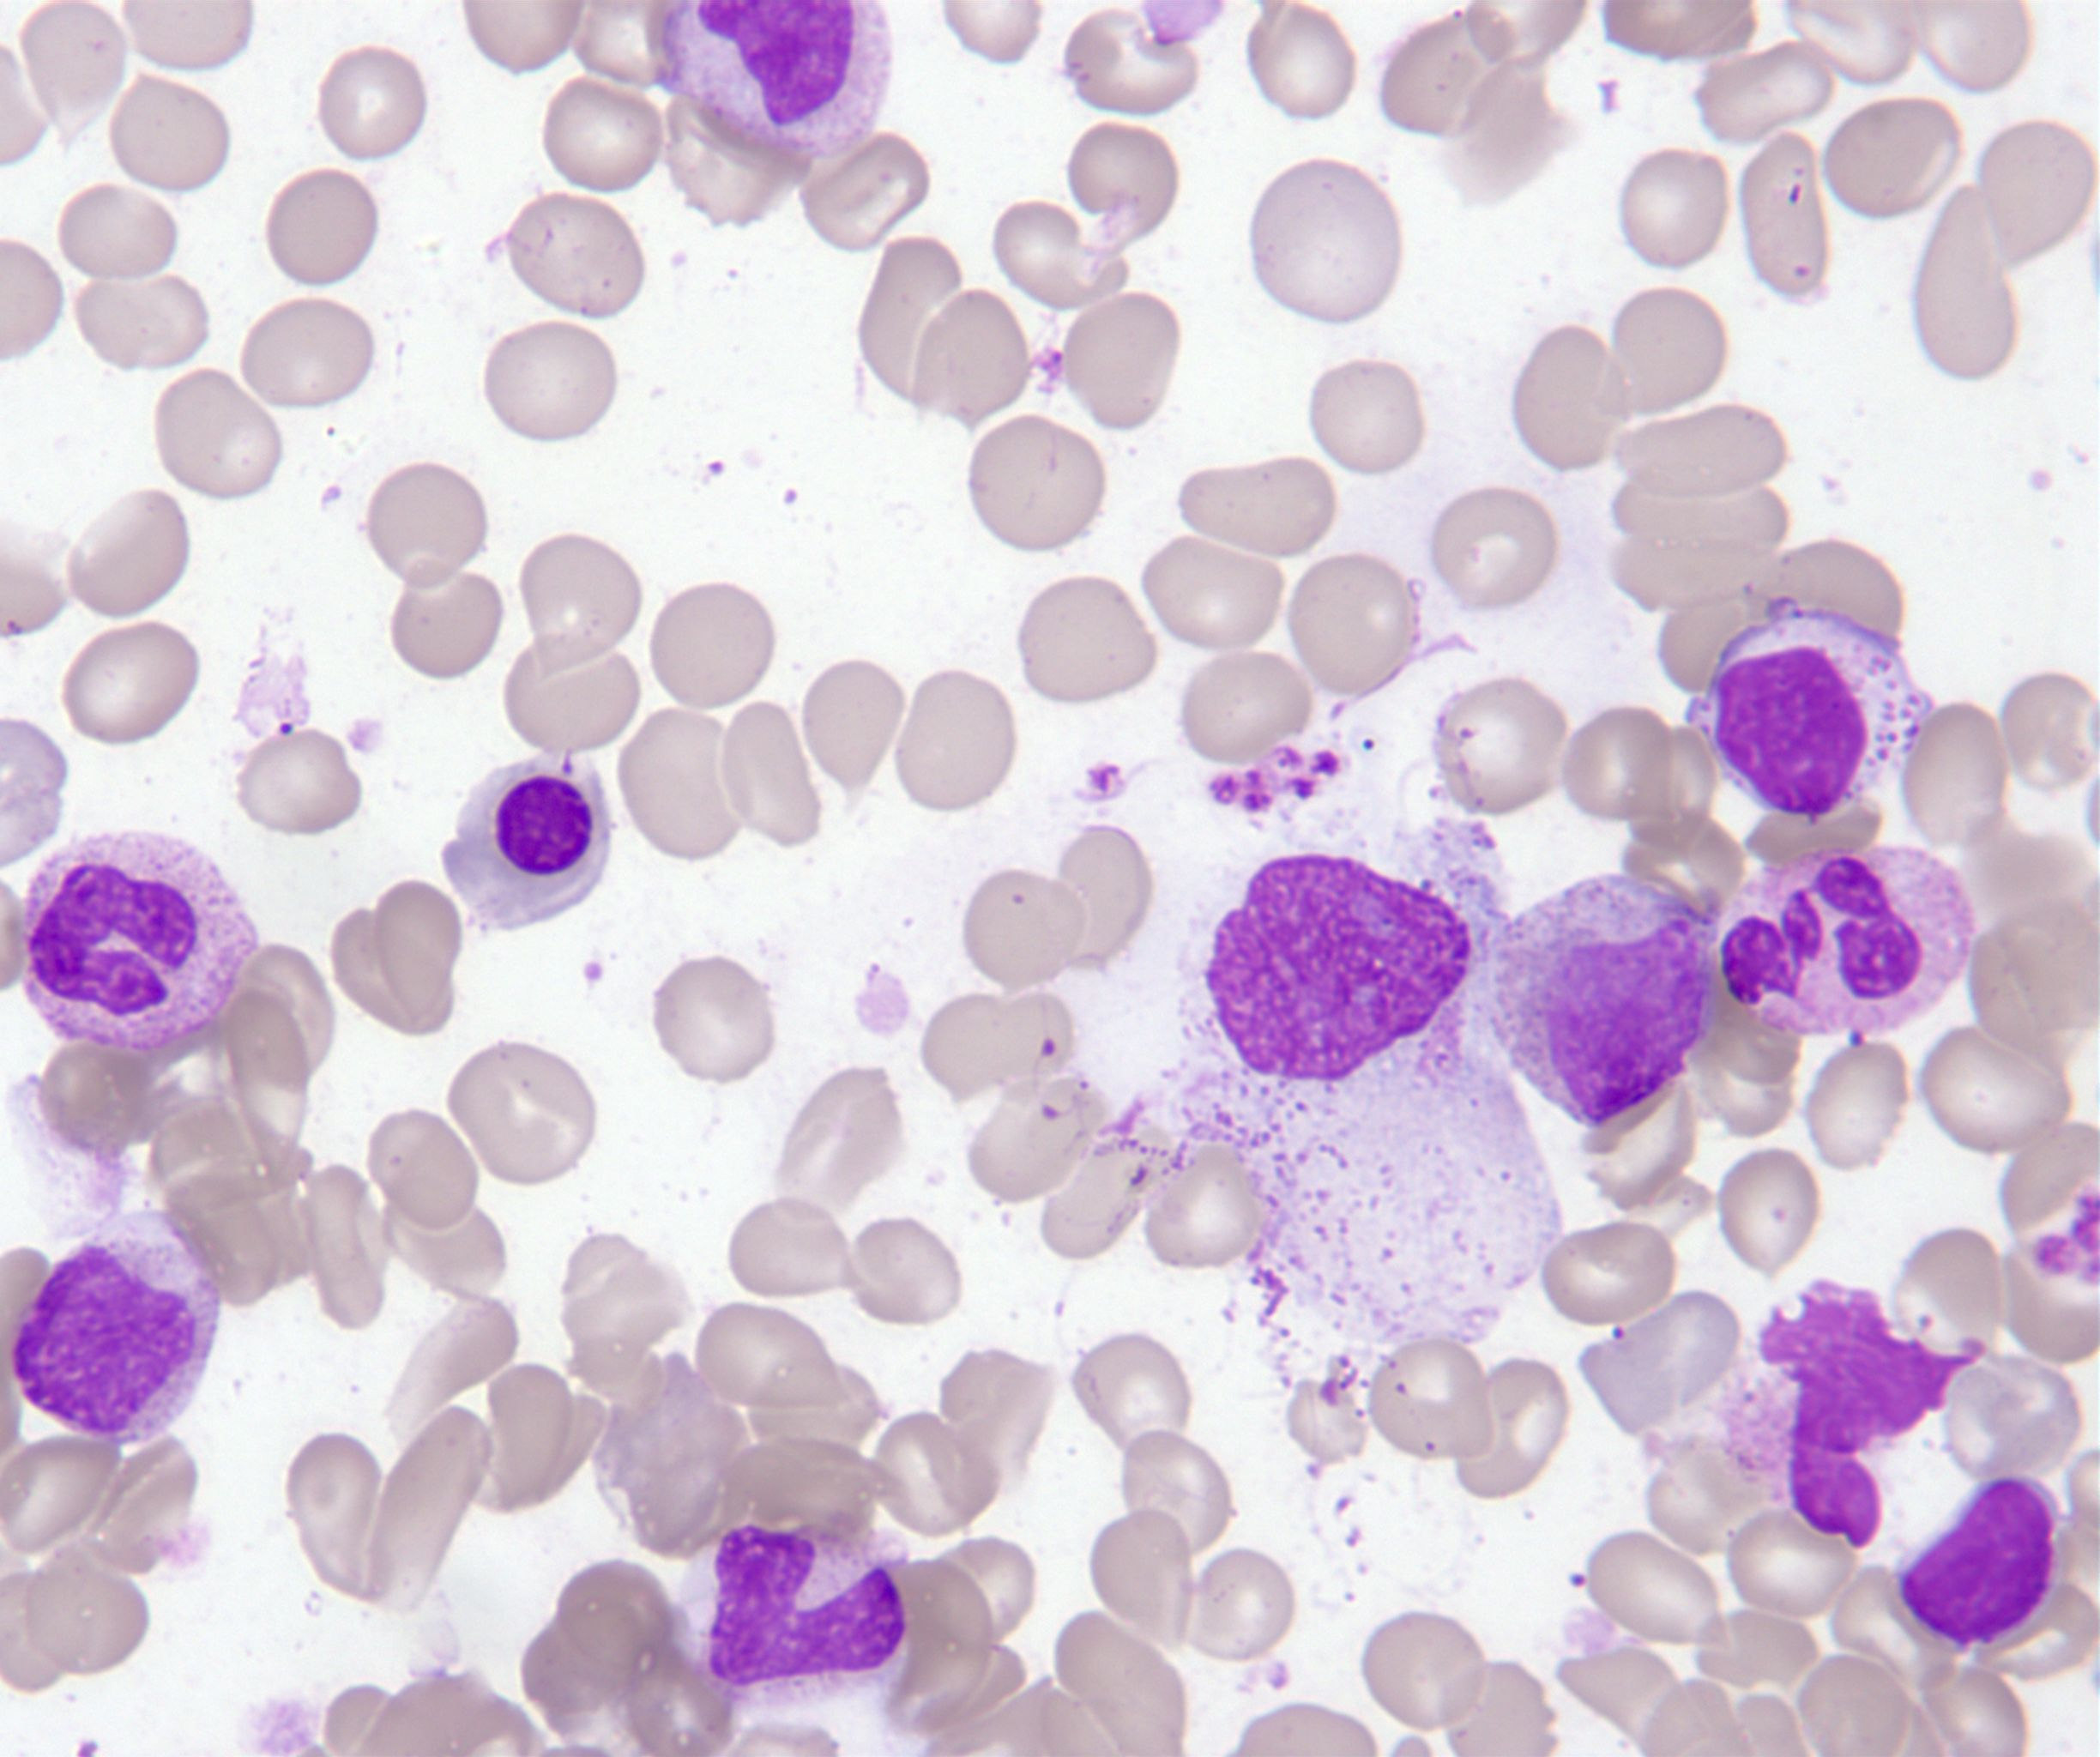24: (434, 749, 619, 937)
3: (1484, 855, 1730, 1132), (2, 1211, 228, 1448)
32: (1678, 588, 1943, 824), (1894, 1467, 2074, 1658)
5: (14, 824, 262, 1056), (670, 1509, 916, 1715)
6: (1713, 832, 1985, 1047)
x: (1188, 839, 1481, 1094)
